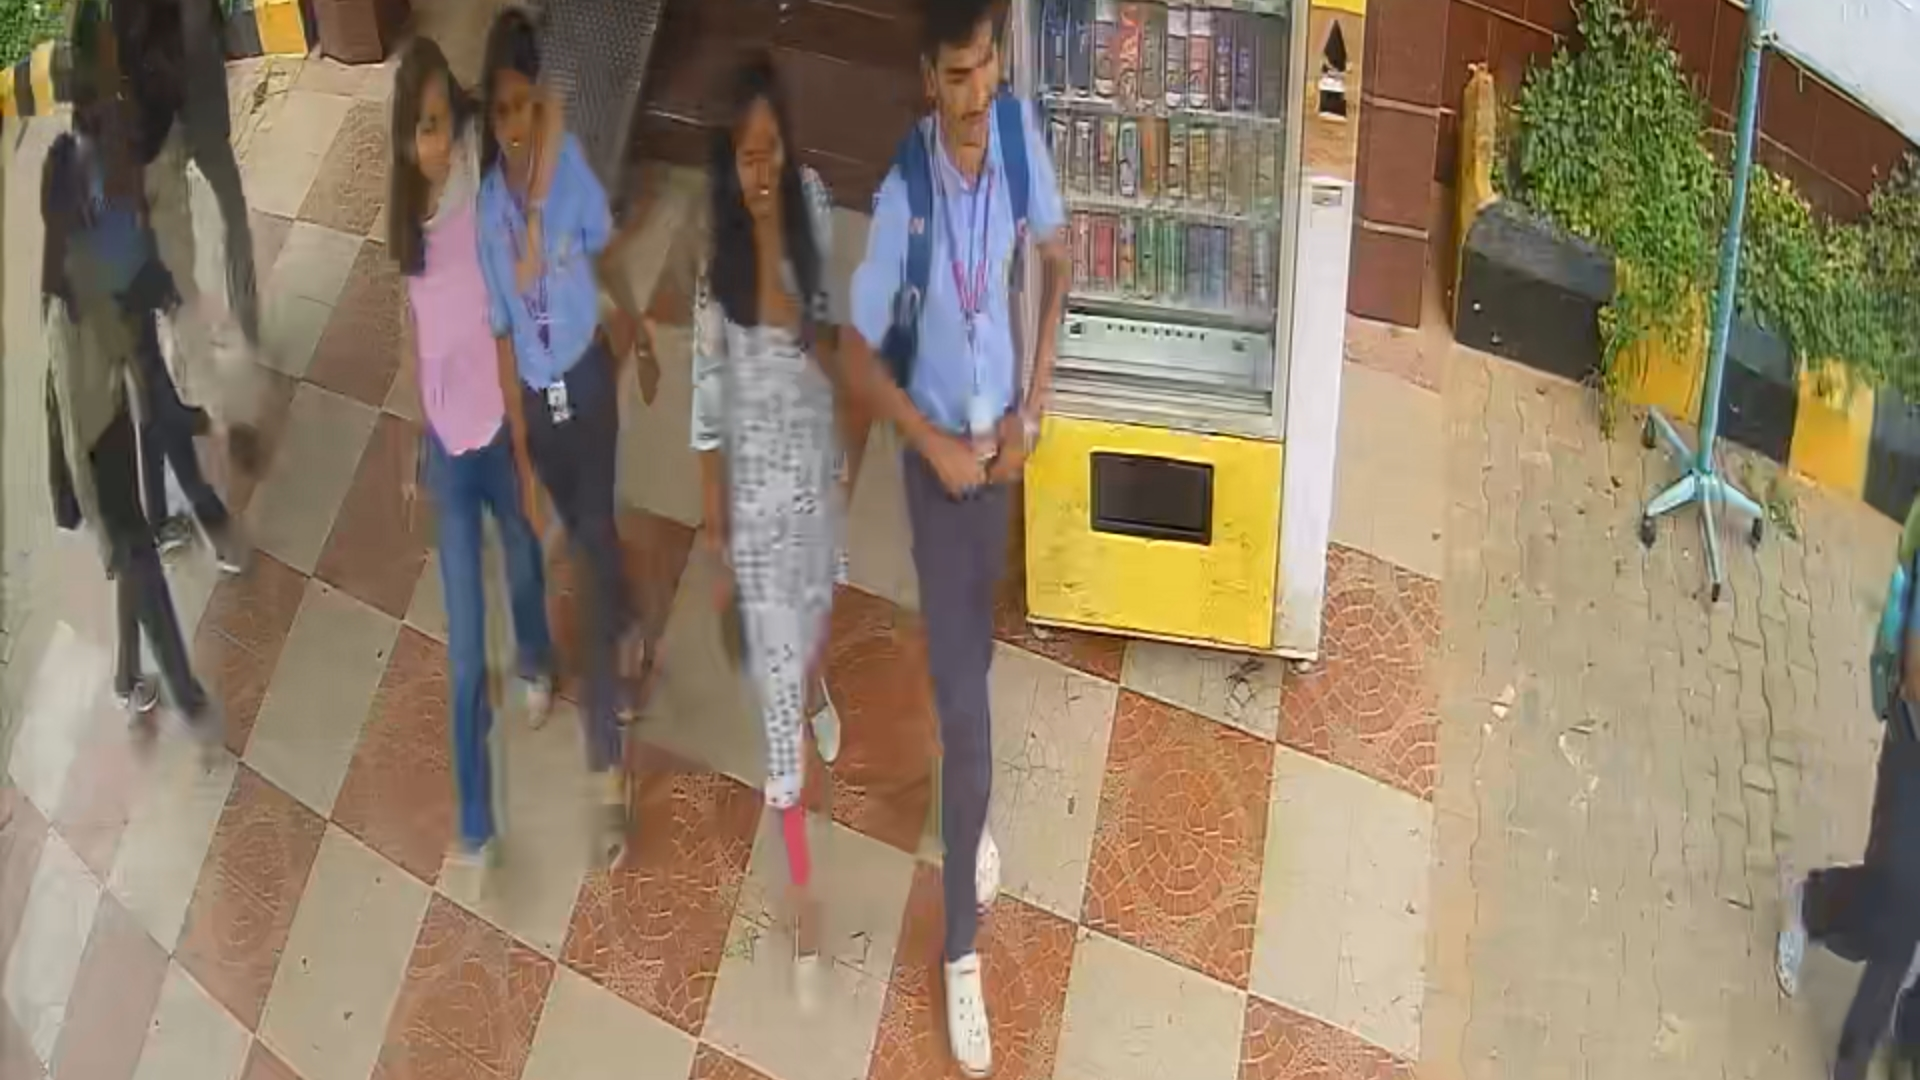intruder: (684, 44, 887, 1005), (352, 38, 543, 856)
not intruder: (885, 1, 1046, 1080), (473, 11, 650, 800)
